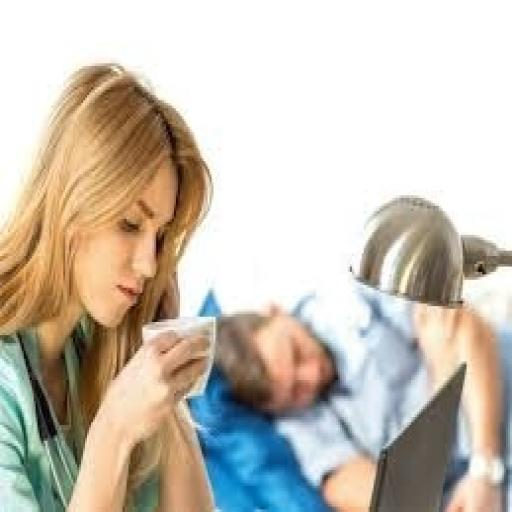sleeping: (0, 57, 227, 509), (212, 190, 510, 509)
